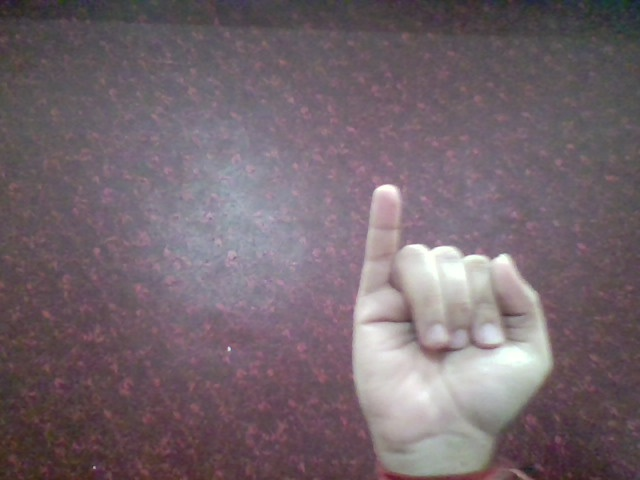i: (343, 175, 560, 461)
